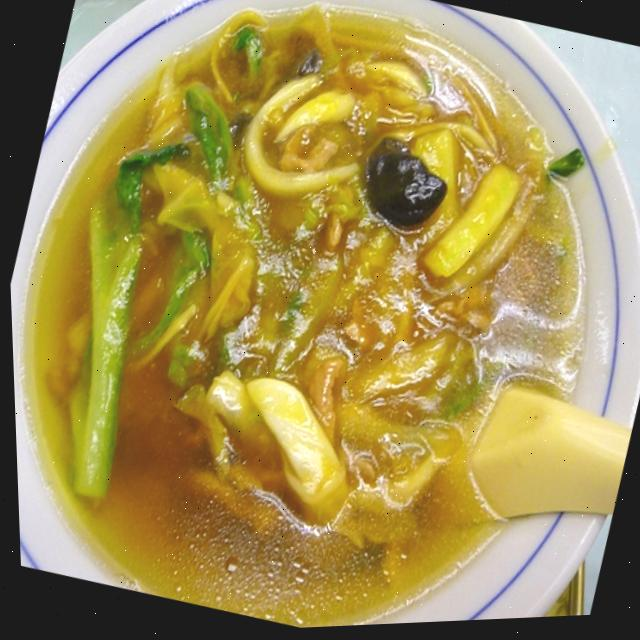面条主食: (18, 9, 582, 628)
